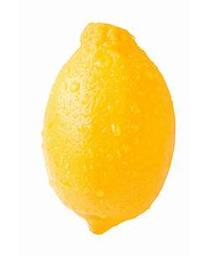lemon: (44, 20, 176, 234)
